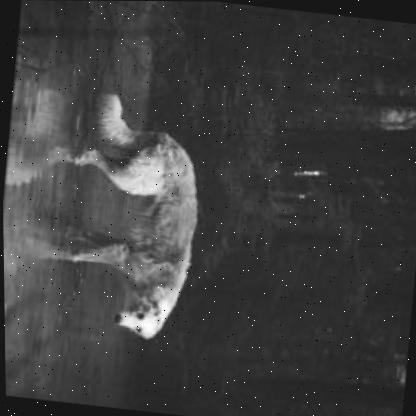dog: (59, 84, 227, 372)
